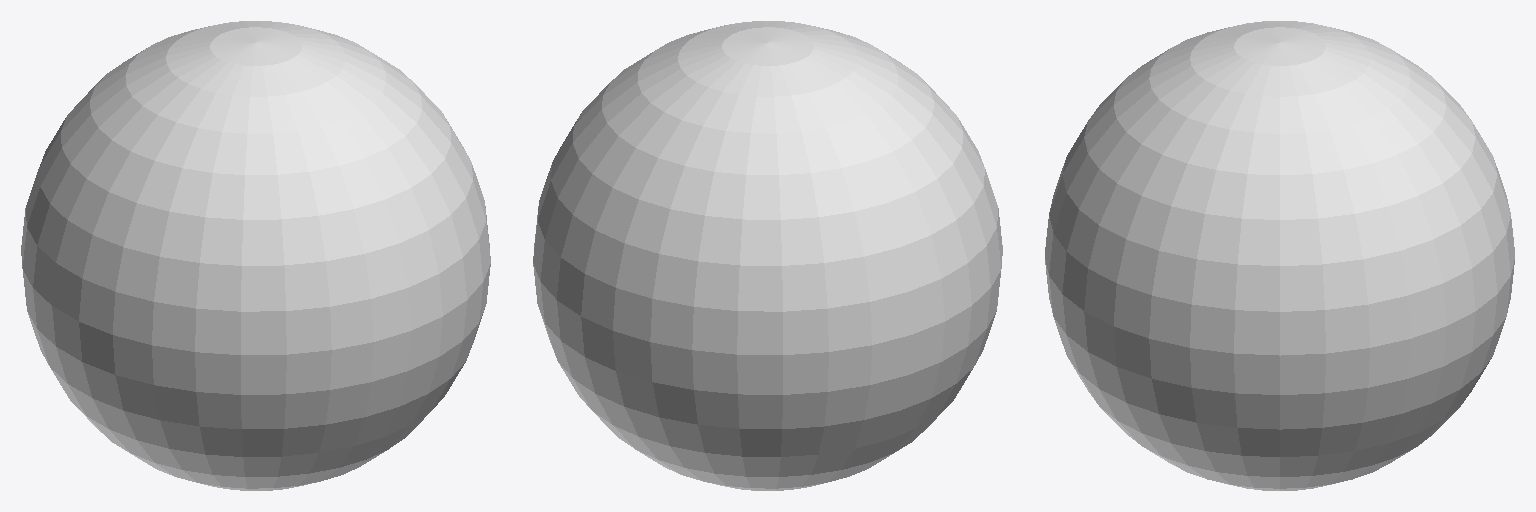
File: head_sphere.obj
The picture shows the model from 3 angles: view 1: azimuth 30°, elevation 25°; view 2: azimuth 150°, elevation 25°; view 3: azimuth 270°, elevation 25°; orthographic projection.
Visible parts, largest first — view 1: Sphere.002; view 2: Sphere.002; view 3: Sphere.002.
Boxes of the visible parts, <box> form: Sphere.002: <box>21,21,490,490</box>; Sphere.002: <box>533,21,1002,490</box>; Sphere.002: <box>1045,21,1514,490</box>.
Bounding box in the file's own units: 2.83 × 2.83 × 2.83.